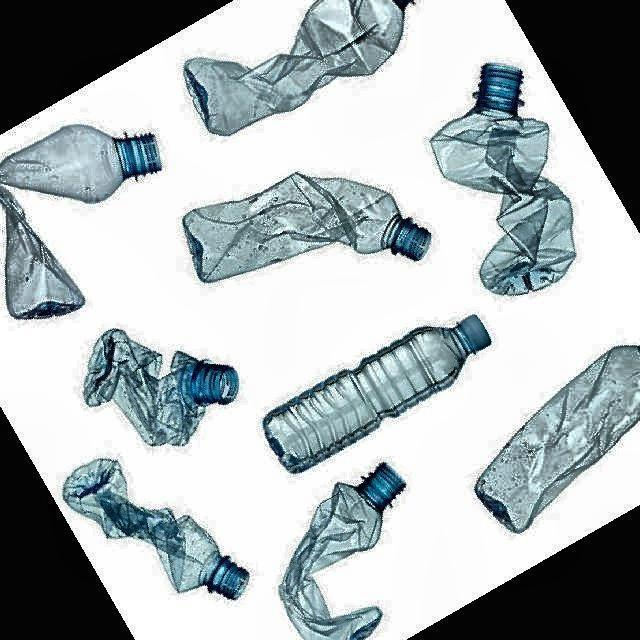plastic: (263, 315, 489, 472), (430, 63, 575, 293), (0, 125, 160, 319), (185, 0, 412, 135), (476, 348, 639, 532), (183, 173, 430, 282), (63, 461, 247, 598), (280, 463, 404, 639), (84, 329, 238, 445)
